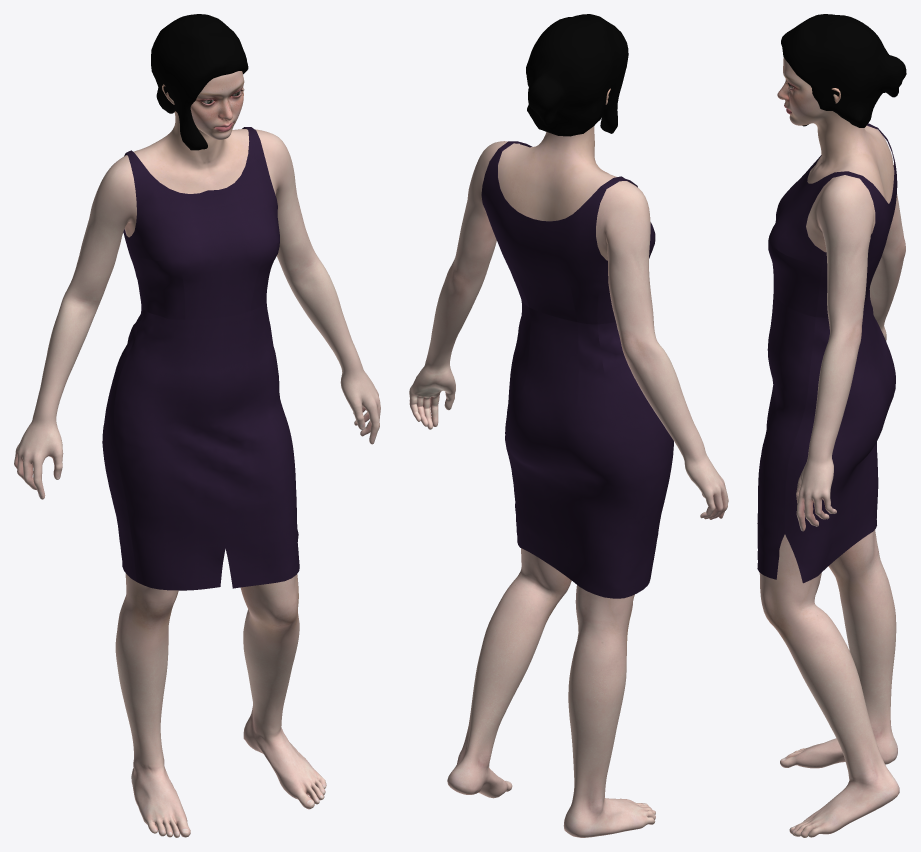
The model's file is Dramatic.obj.
3 views of the same model, side by side, from view 1: azimuth 30°, elevation 25°; view 2: azimuth 150°, elevation 25°; view 3: azimuth 270°, elevation 25° (orthographic). The views are drawn at different scales.
Bounding box in the file's own units: 775 × 1773 × 310.
